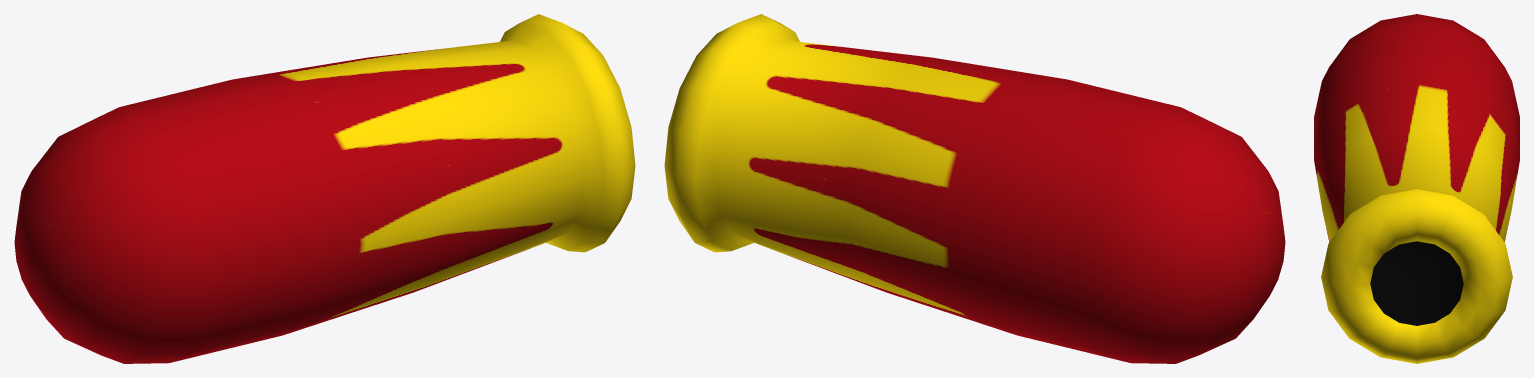
Rendered from Cannon_Base.fbx.
3 renders of one model, left to right at view 1: azimuth 30°, elevation 25°; view 2: azimuth 150°, elevation 25°; view 3: azimuth 270°, elevation 25°, orthographic. The views are drawn at different scales.
Parts seen in each view (by area): view 1: Cannon; view 2: Cannon; view 3: Cannon.
Boxes of the visible parts, left/top/right/bottom form: Cannon: left=14, top=14, right=635, bottom=363; Cannon: left=664, top=14, right=1285, bottom=363; Cannon: left=1314, top=14, right=1519, bottom=363.
Bounding box in the file's own units: 871 × 355 × 355.
1 material, 1 textured.
